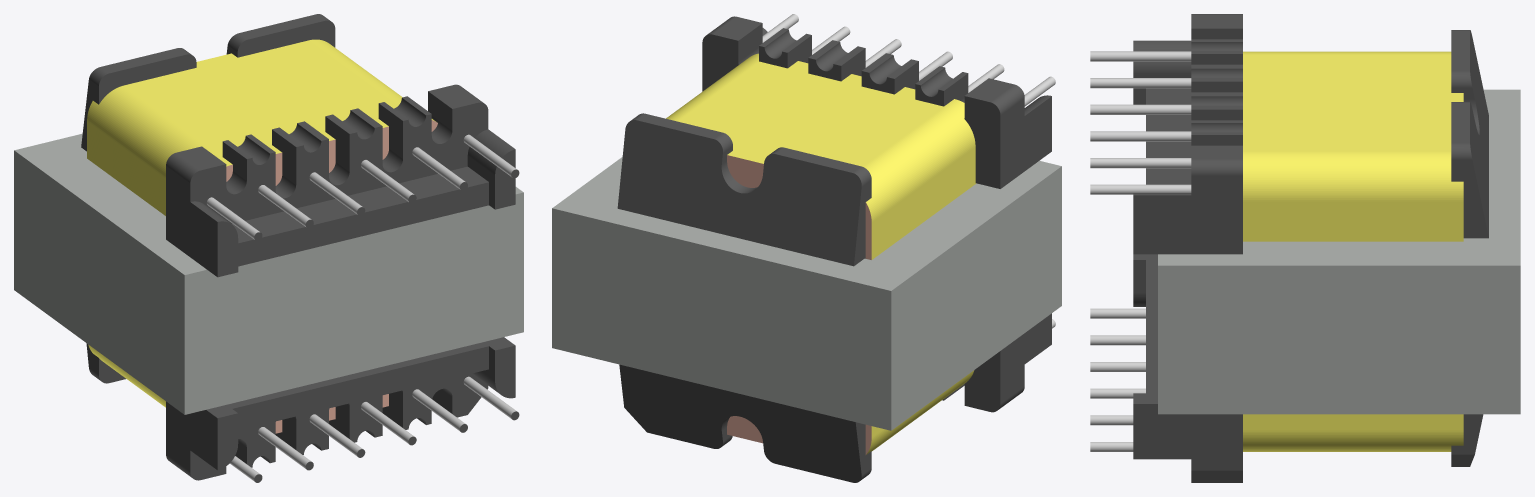
The model's file is transformer.glb.
The picture shows the model from 3 angles, left to right: view 1: azimuth 30°, elevation 25°; view 2: azimuth 150°, elevation 25°; view 3: azimuth 270°, elevation 25°; orthographic projection. The views are drawn at different scales.
Visible parts, largest first — view 1: Node3, Node1, Node5, Node2, Node4; view 2: Node3, Node1, Node5, Node4, Node2; view 3: Node3, Node5, Node1, Node2.
Boxes of the visible parts, left/top/right/bottom form: Node3: left=14, top=133, right=523, bottom=414; Node1: left=81, top=14, right=519, bottom=482; Node5: left=87, top=39, right=435, bottom=407; Node2: left=206, top=134, right=516, bottom=481; Node4: left=226, top=120, right=437, bottom=433; Node3: left=552, top=157, right=1061, bottom=430; Node1: left=617, top=16, right=1051, bottom=482; Node5: left=666, top=53, right=976, bottom=454; Node4: left=727, top=155, right=871, bottom=454; Node2: left=762, top=14, right=1055, bottom=328; Node3: left=1158, top=89, right=1520, bottom=414; Node5: left=1243, top=51, right=1463, bottom=451; Node1: left=1133, top=14, right=1488, bottom=482; Node2: left=1090, top=51, right=1191, bottom=451.
Bounding box in the file's own units: 33 × 28.8 × 34.1.
